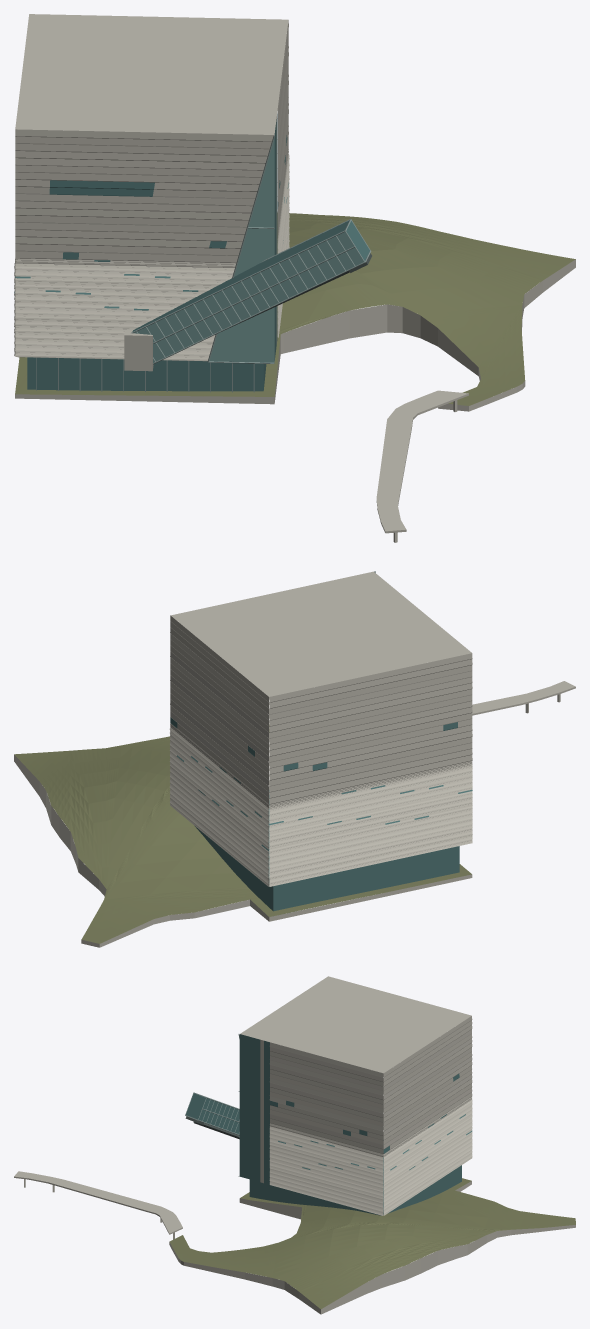
The model's file is perot-museum-near.glb.
3 views of the same model, one above another, from view 1: azimuth 30°, elevation 25°; view 2: azimuth 150°, elevation 25°; view 3: azimuth 270°, elevation 25° (orthographic). The views are drawn at different scales.
Parts seen in each view (by area): view 1: perot-museum-0-stone, perot-museum-0-landscape, perot-museum-0-glow, perot-museum-0-glass, perot-museum-0-frame, perot-museum-0-relief; view 2: perot-museum-0-stone, perot-museum-0-landscape, perot-museum-0-glass, perot-museum-0-relief; view 3: perot-museum-0-stone, perot-museum-0-landscape, perot-museum-0-glass, perot-museum-0-relief, perot-museum-0-frame.
Boxes of the visible parts, x1,y1,x2,y2 form: perot-museum-0-stone: (14,14,575,542); perot-museum-0-landscape: (15,212,575,405); perot-museum-0-glow: (133,139,363,362); perot-museum-0-glass: (14,114,369,391); perot-museum-0-frame: (36,135,371,392); perot-museum-0-relief: (14,171,289,361); perot-museum-0-stone: (14,571,575,947); perot-museum-0-landscape: (14,724,471,943); perot-museum-0-glass: (170,717,472,911); perot-museum-0-relief: (170,733,472,879); perot-museum-0-stone: (14,976,575,1314); perot-museum-0-landscape: (169,1178,575,1308); perot-museum-0-glass: (186,1034,472,1215); perot-museum-0-relief: (269,1104,472,1213); perot-museum-0-frame: (185,1034,239,1176).
Bounding box in the file's own units: 112 × 51.85 × 156.
